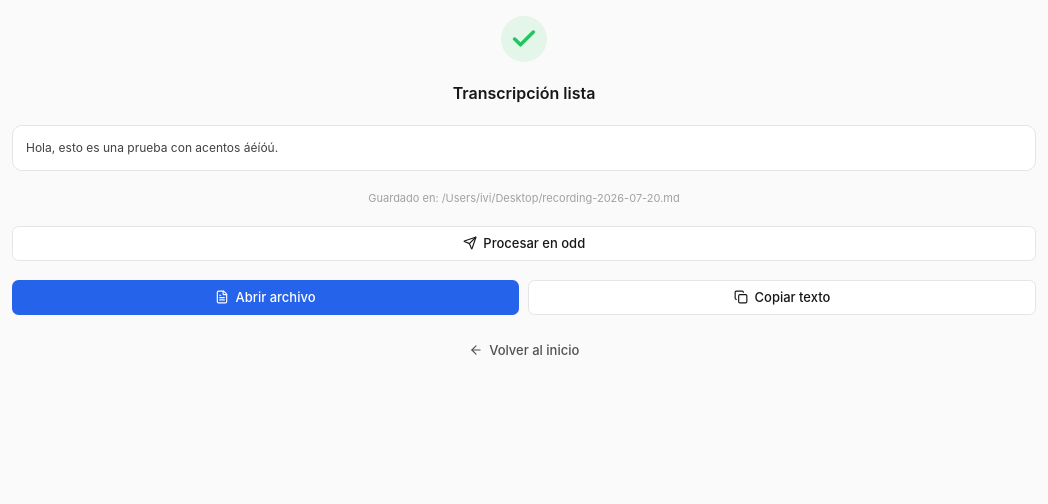
it: ResultView — procesar en odd › se puede disparar sin contexto: no manda instruction
Click the button "Procesar en odd" at (524, 243), box [12, 226, 1036, 260]
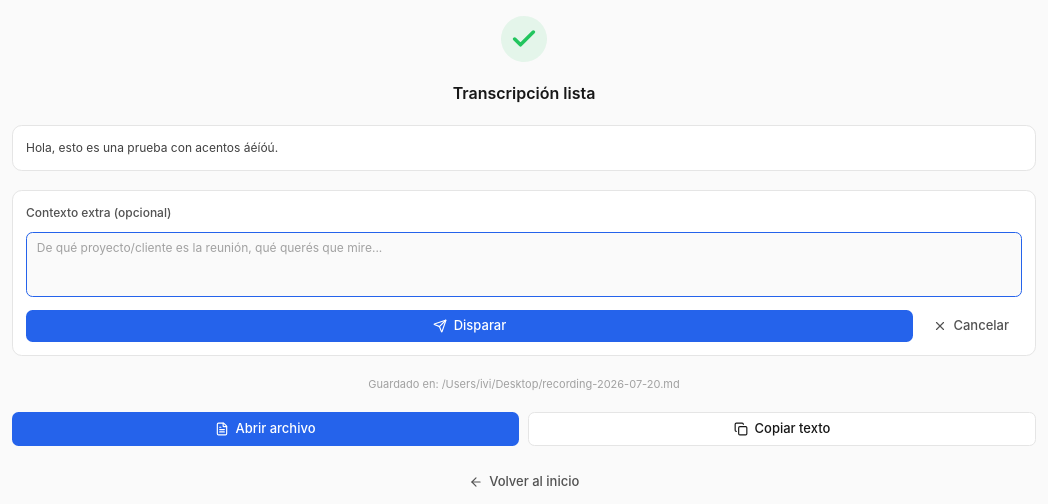
Click the button "Disparar" at (470, 326), box [26, 310, 913, 342]
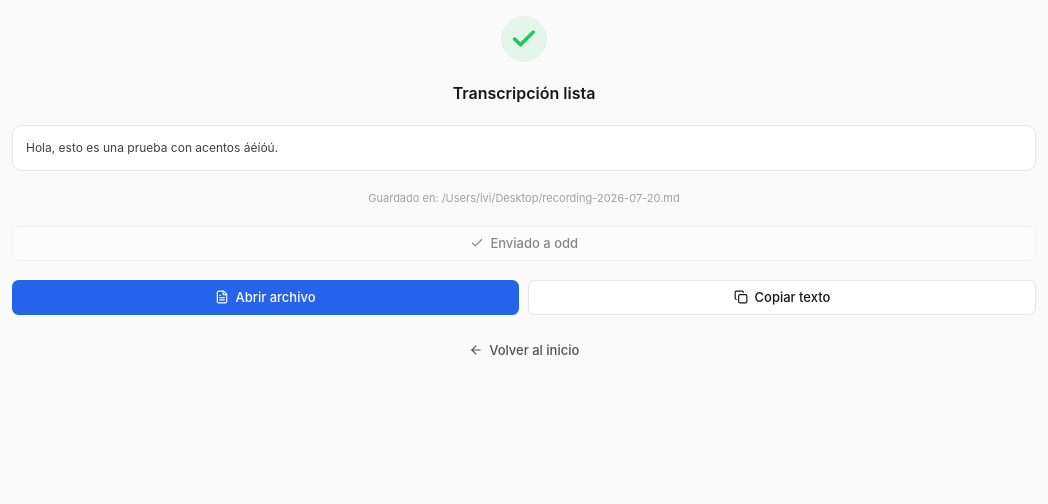
expect the button "Enviado a odd" is shown: met, box [12, 226, 1036, 260]
